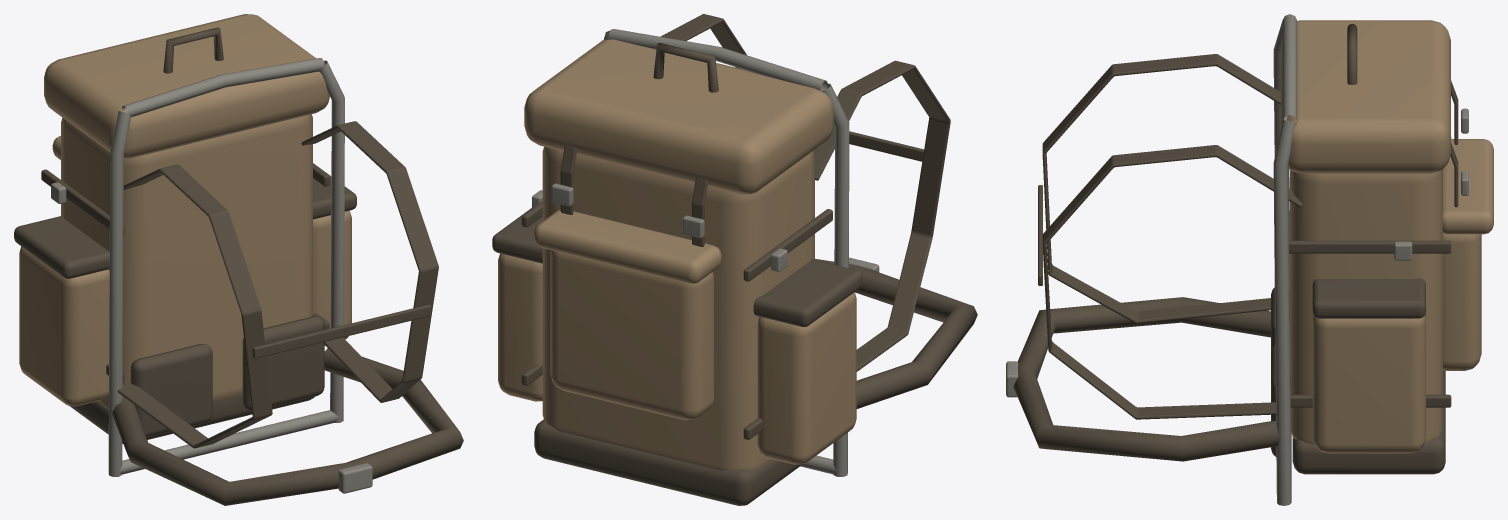
File: BooterFramedBackpack.fbx
The picture shows the model from 3 angles, left to right: view 1: azimuth 30°, elevation 25°; view 2: azimuth 150°, elevation 25°; view 3: azimuth 270°, elevation 25°; orthographic projection. The views are drawn at different scales.
Visible parts, largest first — view 1: Backpack_RigidPack; view 2: Backpack_RigidPack; view 3: Backpack_RigidPack.
Boxes of the visible parts, left/top/right/bottom form: Backpack_RigidPack: left=14, top=14, right=463, bottom=505; Backpack_RigidPack: left=492, top=14, right=977, bottom=505; Backpack_RigidPack: left=1006, top=14, right=1493, bottom=505.
Size of the model in its own units: 62.9 by 79.96 by 86.1.
